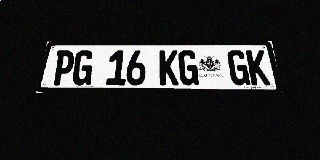1: (106, 50, 127, 85)
6: (126, 50, 146, 85)
G: (71, 50, 94, 85), (227, 50, 250, 85), (178, 50, 199, 85)
K: (246, 50, 271, 85), (159, 50, 179, 85)
P: (51, 50, 76, 85)
